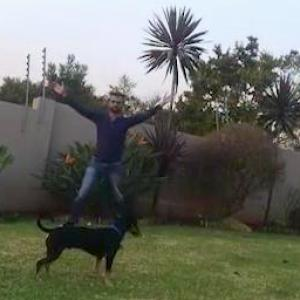takeoff: (62, 80, 189, 225)
